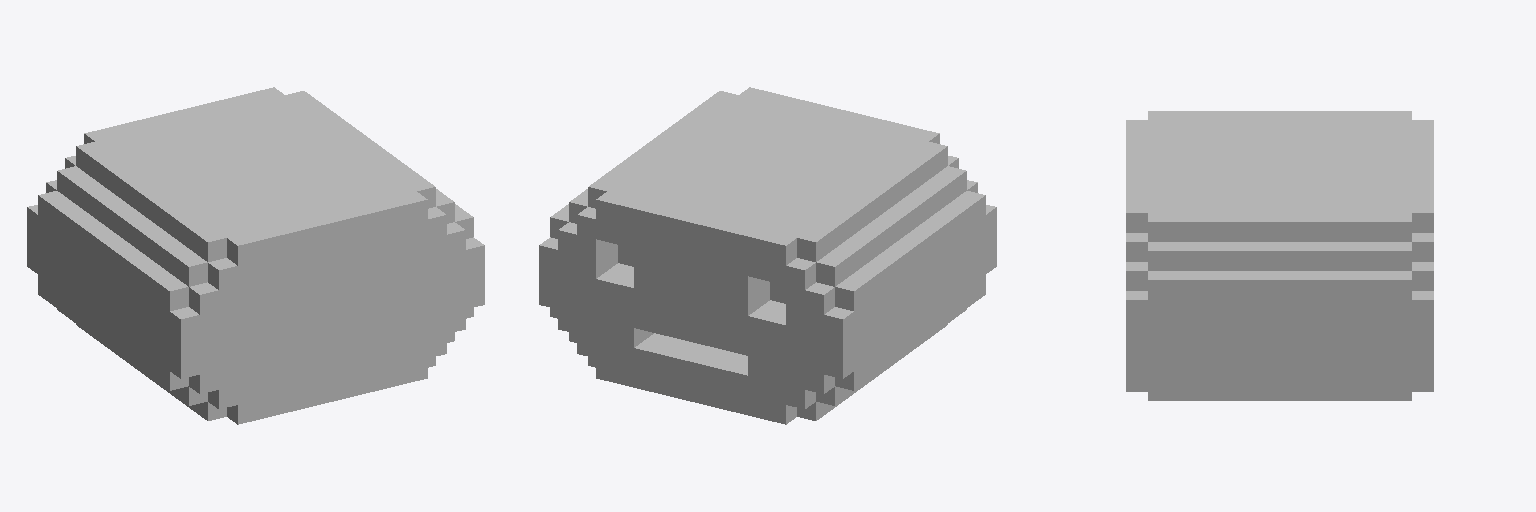
File: jager-2.obj
3 renders of one model, left to right at view 1: azimuth 30°, elevation 25°; view 2: azimuth 150°, elevation 25°; view 3: azimuth 270°, elevation 25°, orthographic.
Visible parts, largest first — view 1: object 1; view 2: object 1; view 3: object 1.
Part boxes in pixels (x1,y1,x2,y2): object 1: (27,87,484,424); object 1: (539,87,996,424); object 1: (1126,111,1433,400).
Bounding box in the file's own units: 1.6 × 0.9 × 1.4.